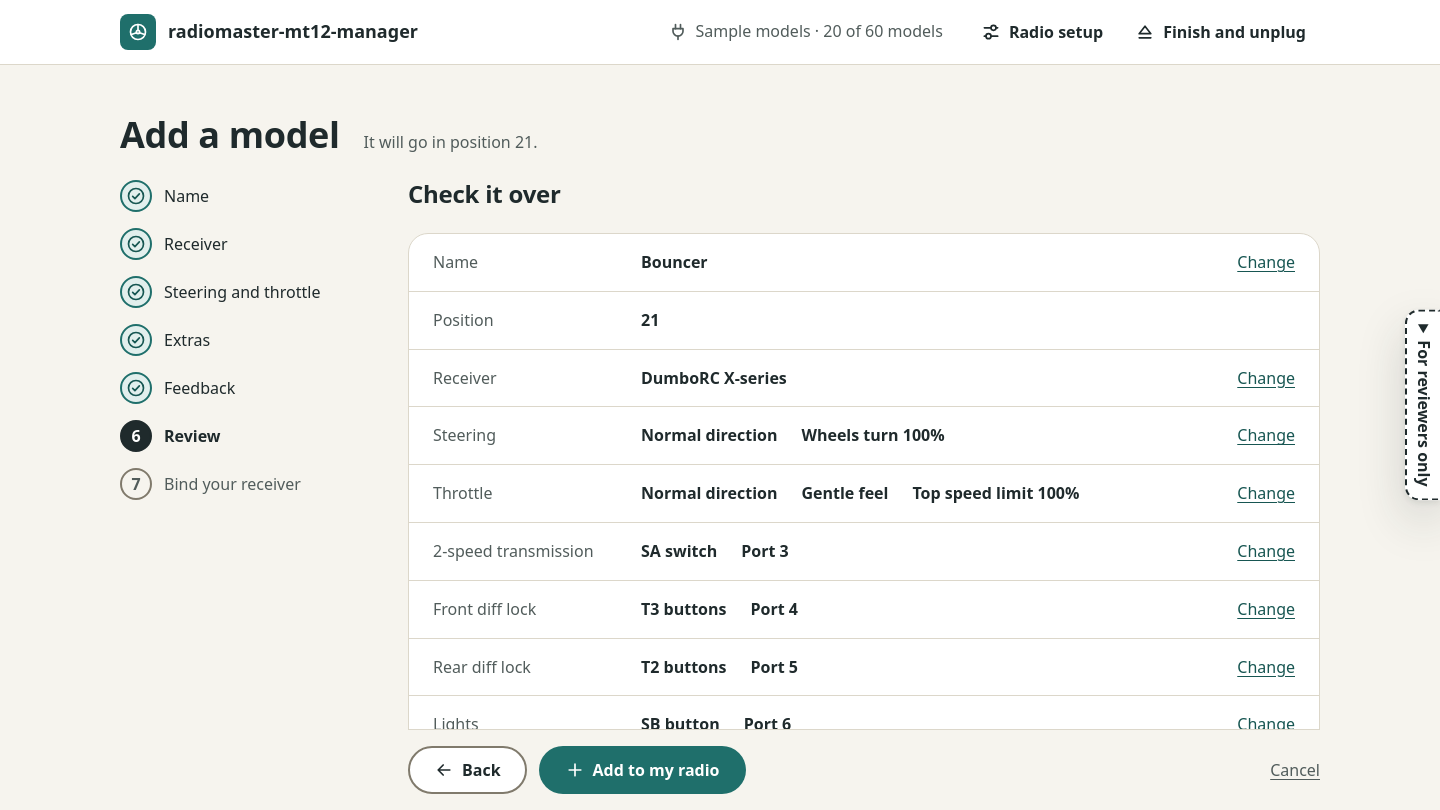
Review sums up the answers, says what each control and port does, and adds the model
Expected: the heading "Check it over" is shown, 408,177 -> 561,210
Expected: the text "Bouncer" is shown, 641,251 -> 708,273
Click the button "Add to my radio".
click(642, 770)  # box 539,746 -> 746,794
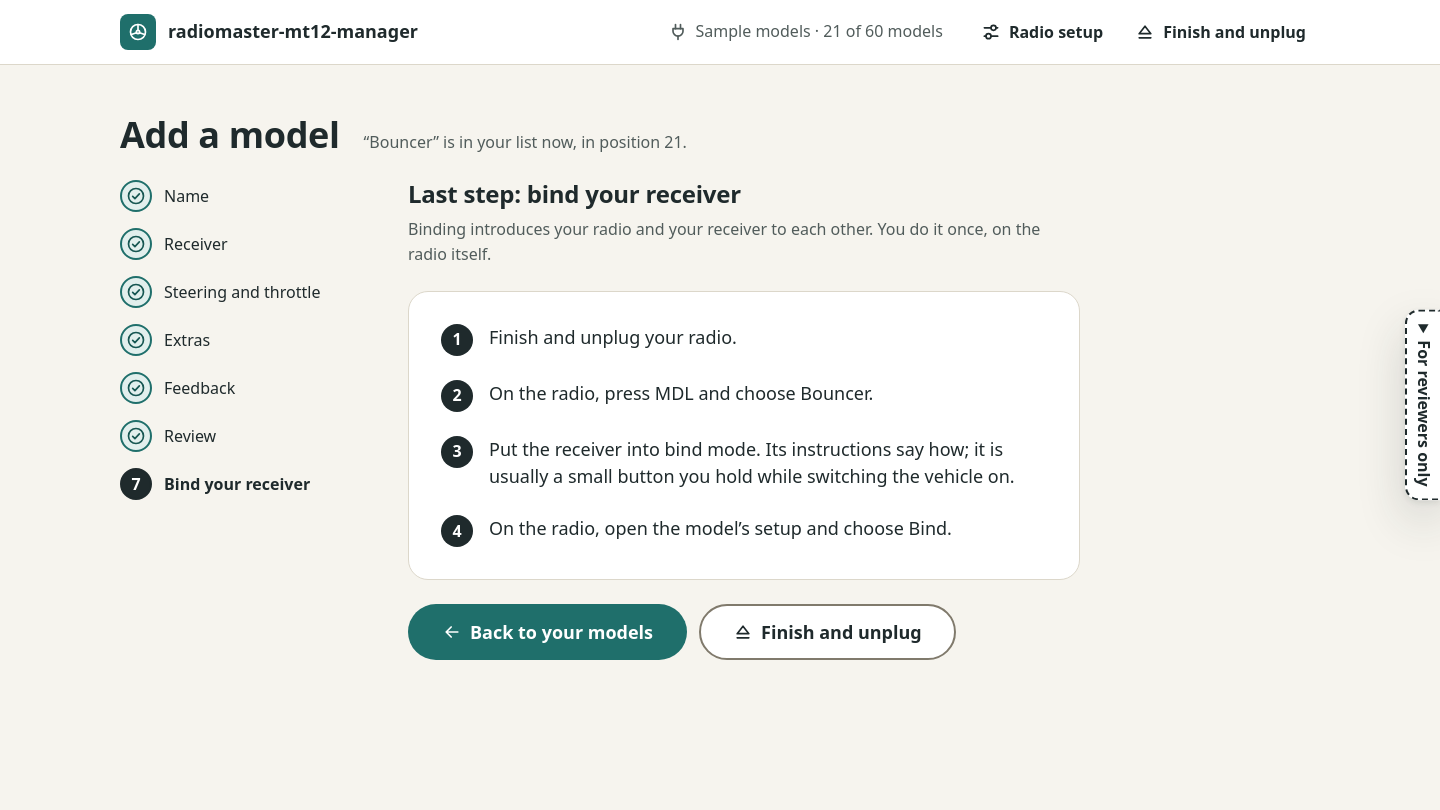
Now the heading "Last step: bind your receiver" is shown, box 408,177 -> 741,210
